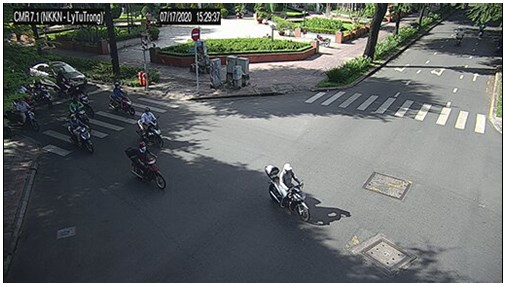xe_hoi: (29, 61, 87, 92)
xe_may: (264, 162, 309, 221), (125, 140, 167, 189), (135, 107, 166, 147), (66, 114, 94, 153), (108, 83, 137, 115), (15, 98, 40, 131), (73, 83, 93, 115), (68, 96, 91, 123), (55, 69, 73, 98), (32, 81, 52, 106), (18, 85, 35, 109), (452, 28, 466, 48), (476, 23, 486, 38)
